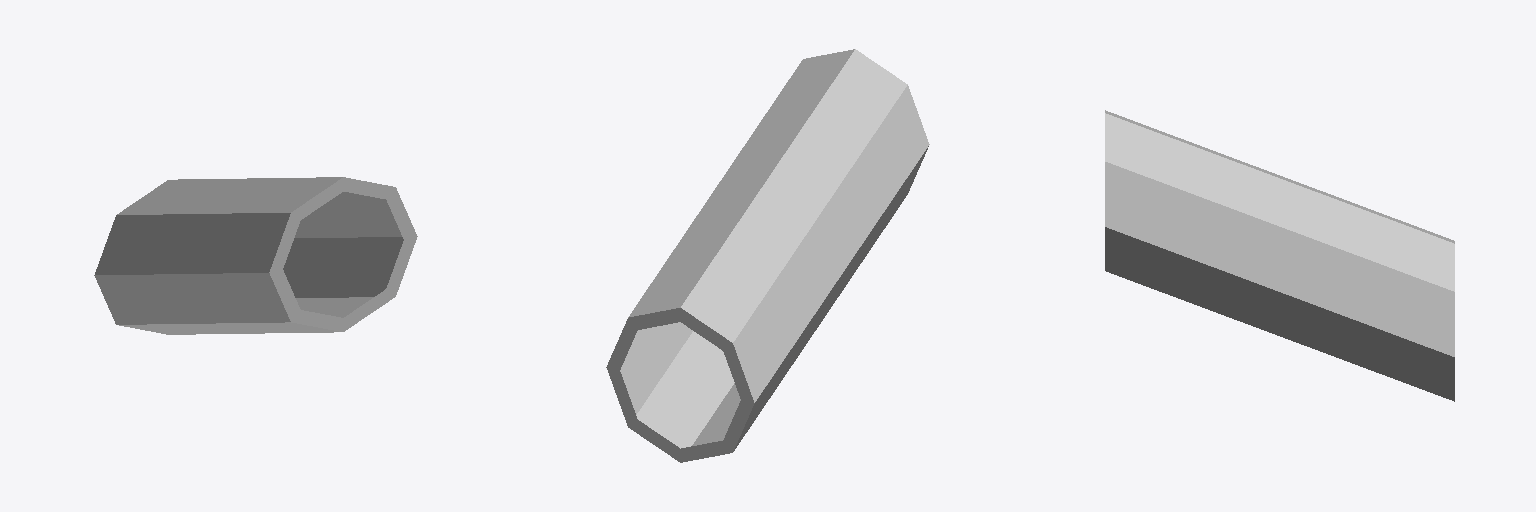
Rendered from pipeRamp.obj.
3 views of the same model, side by side, from view 1: azimuth 30°, elevation 25°; view 2: azimuth 150°, elevation 25°; view 3: azimuth 270°, elevation 25° (orthographic).
Parts seen in each view (by area): view 1: pipeRamp; view 2: pipeRamp; view 3: pipeRamp.
Boxes of the visible parts, x1,y1,x2,y2 form: pipeRamp: [94, 177, 417, 334]; pipeRamp: [606, 49, 929, 462]; pipeRamp: [1105, 110, 1454, 401].
Bounding box in the file's own units: 4.9 × 9.01 × 10.